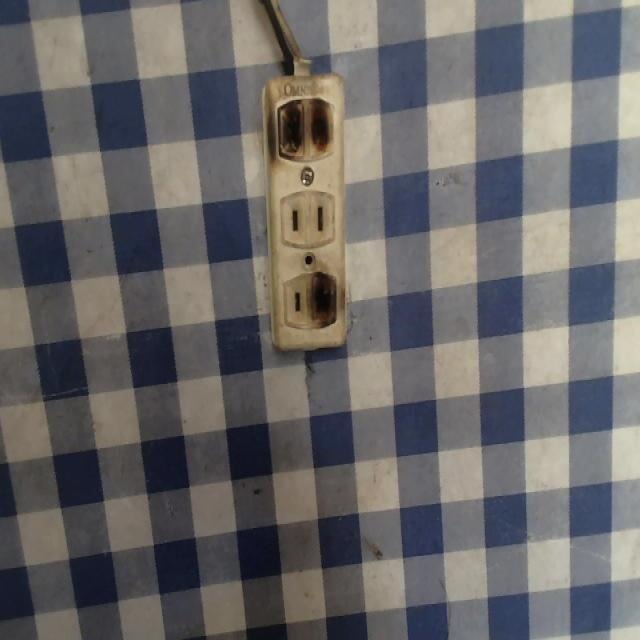-: (272, 95, 336, 167), (307, 272, 345, 328)
